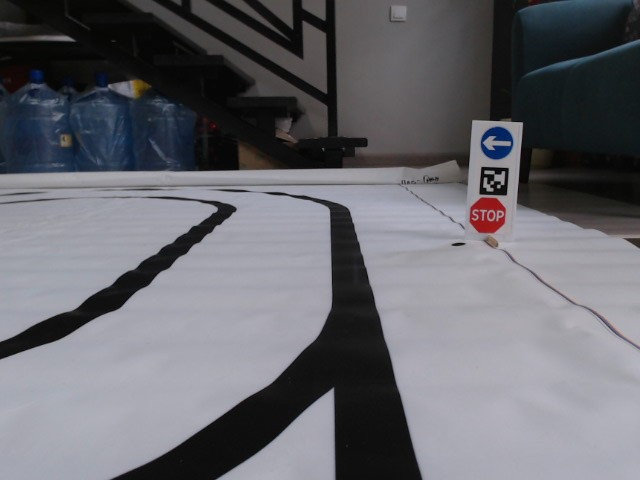Stop: (468, 196, 510, 235)
